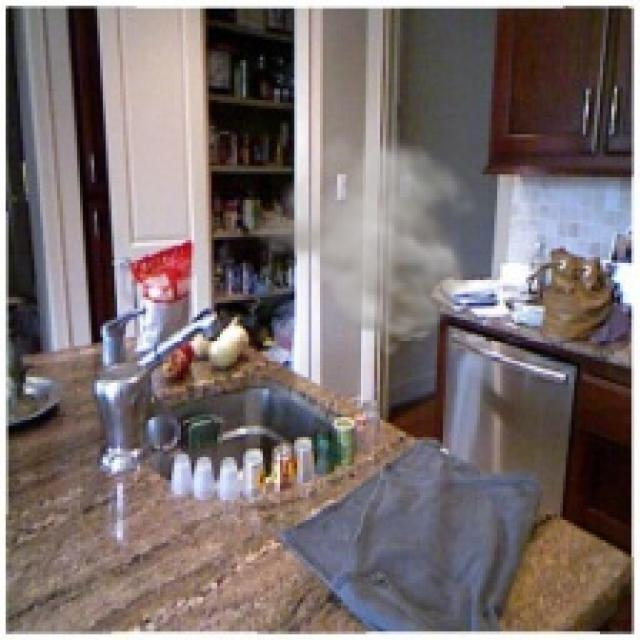smoke: (240, 129, 491, 360)
